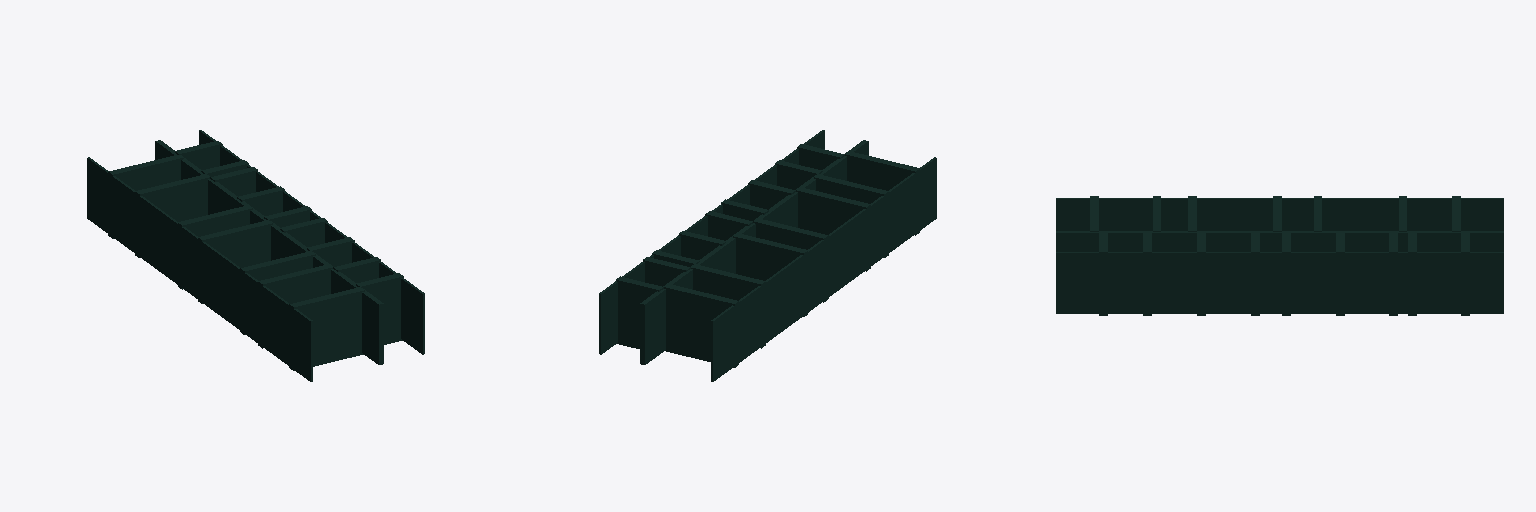
The model's file is Furniture_Shelving-Storage_CIDER-LA-MANUFACTURE_Pyrite-Bookshelf.zip.obj.
3 renders of one model, left to right at view 1: azimuth 30°, elevation 25°; view 2: azimuth 150°, elevation 25°; view 3: azimuth 270°, elevation 25°, orthographic.
Parts seen in each view (by area): view 1: default; view 2: default; view 3: default.
Boxes of the visible parts, x1=… form: default: x1=87, y1=130, x2=424, y2=381; default: x1=599, y1=130, x2=936, y2=381; default: x1=1056, y1=196, x2=1503, y2=315.
Bounding box in the file's own units: 590 × 316 × 2000.